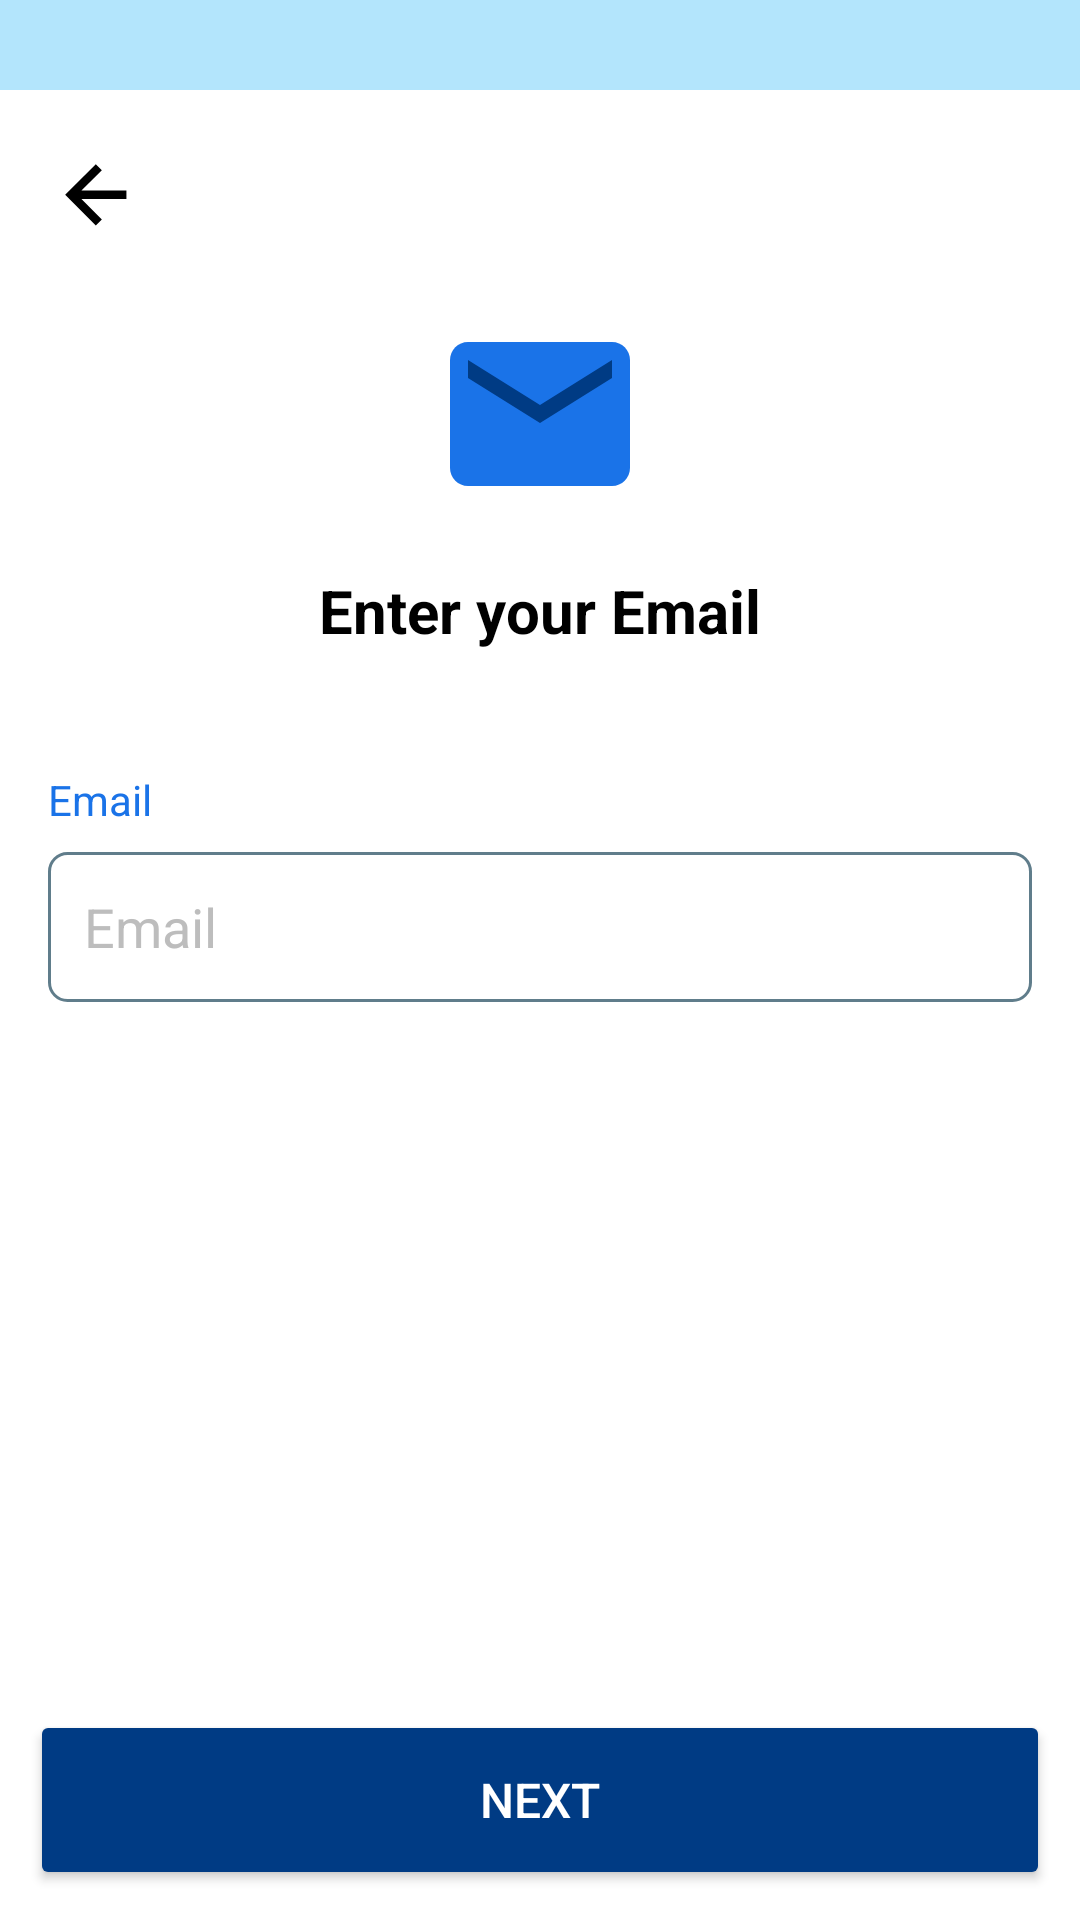

Named icons in this screenshot (1080 x 1920) and their centers, (x,y):
Back: (96,195)
